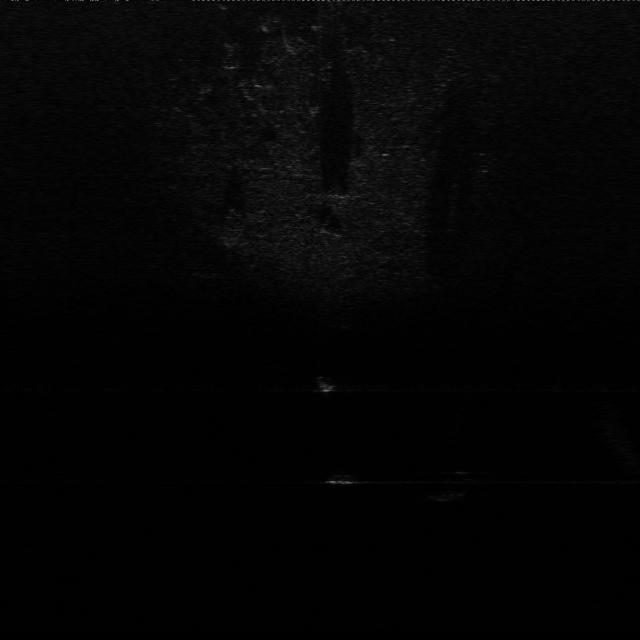cube: (324, 464, 374, 488)
square cage: (310, 366, 342, 396)
tyre: (429, 466, 482, 504)
